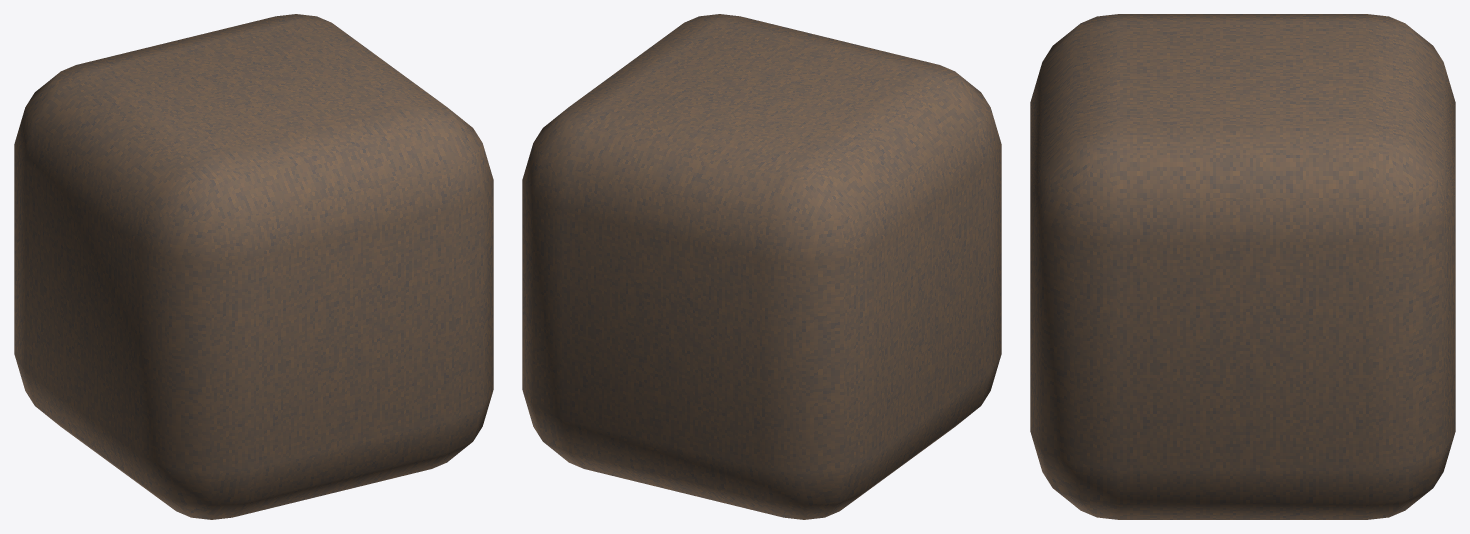
The model's file is ice.DAE.
3 renders of one model, left to right at view 1: azimuth 30°, elevation 25°; view 2: azimuth 150°, elevation 25°; view 3: azimuth 270°, elevation 25°, orthographic. The views are drawn at different scales.
Visible parts, largest first — view 1: ChamferBox001; view 2: ChamferBox001; view 3: ChamferBox001.
Part boxes in pixels (<box>): ChamferBox001: <box>14,14,493,519</box>; ChamferBox001: <box>522,14,1001,519</box>; ChamferBox001: <box>1030,14,1455,519</box>.
Size of the model in its own units: 2 by 2 by 2.
1 material, 1 textured.
